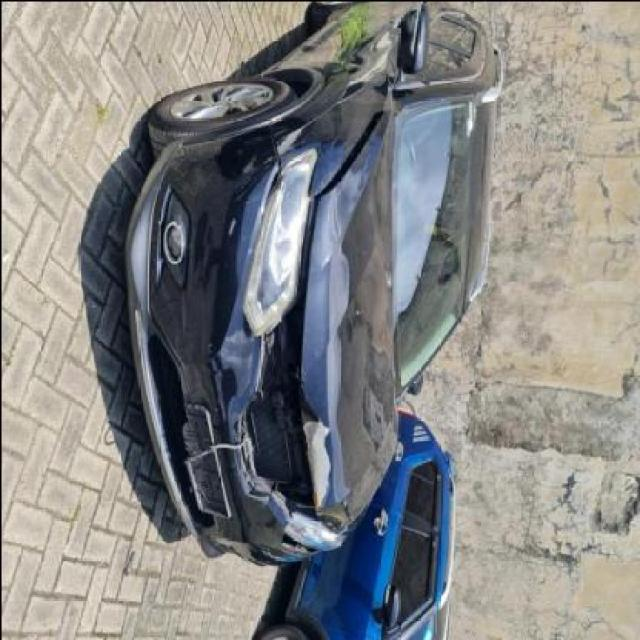damage: (233, 96, 491, 247)
